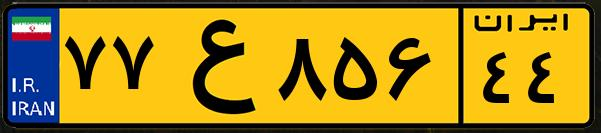4: (475, 38, 525, 113), (525, 38, 570, 115)
5: (330, 28, 385, 110)
6: (385, 28, 445, 110)
7: (57, 26, 110, 100), (110, 28, 158, 98)
8: (270, 28, 330, 110)
ع: (158, 12, 270, 120)
